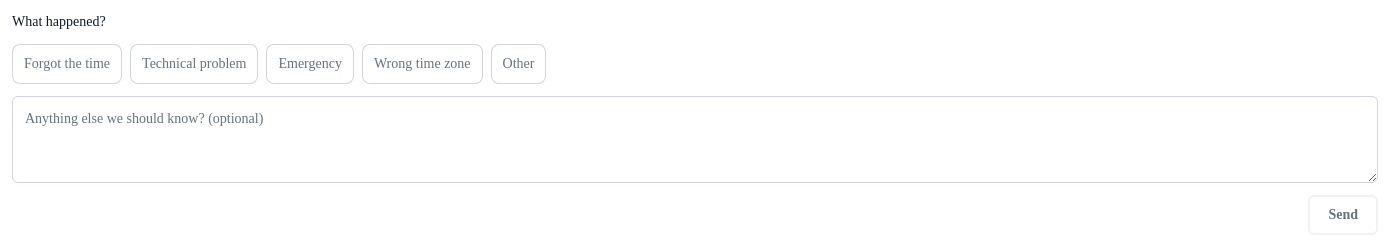
Test: MissedReasonForm › picking the same chip again clears it
The image size is (1390, 252).
Step 1. Click the button "Emergency" → (310, 64), box [266,44,354,84]
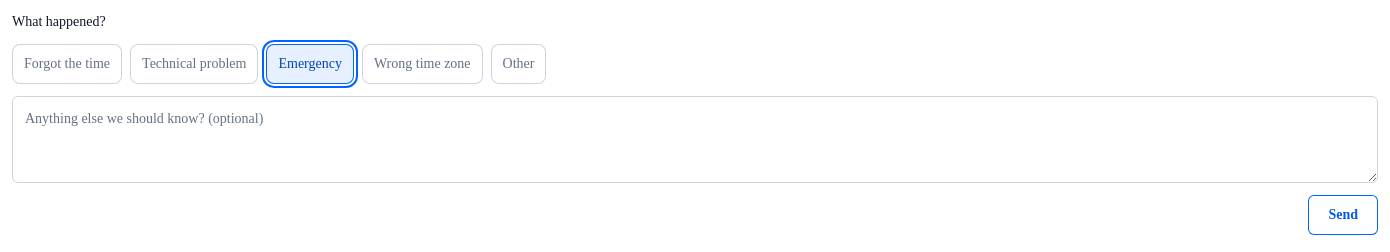
Step 2. Click the button "Emergency" → (310, 64), box [266,44,354,84]
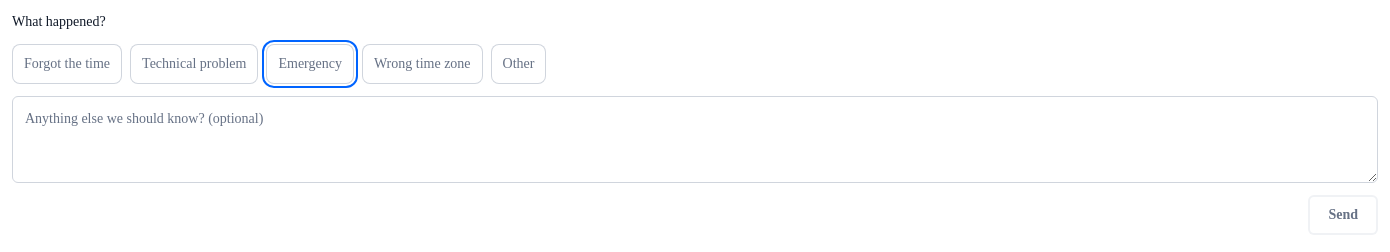
Expected: the button "Send" is disabled, [1308,195,1378,235]
